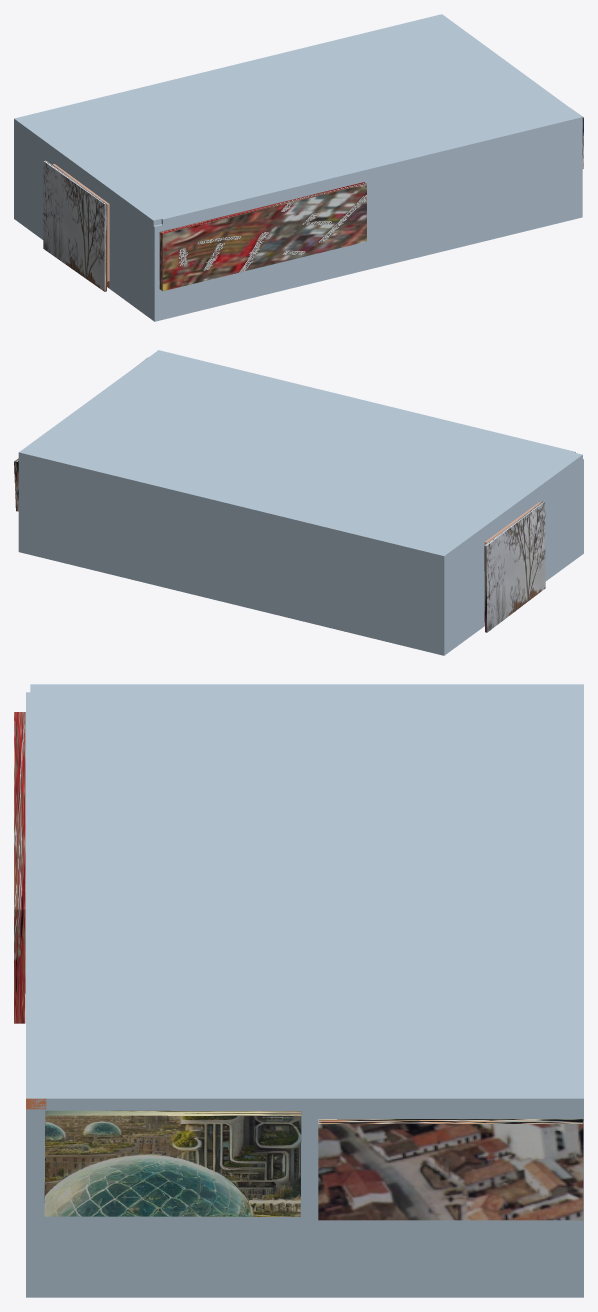
Rendered from museo.glb.
3 views of the same model, one above another, from view 1: azimuth 30°, elevation 25°; view 2: azimuth 150°, elevation 25°; view 3: azimuth 270°, elevation 25° (orthographic). The views are drawn at different scales.
Visible parts, largest first — view 1: Plane, vegetacion, Malasana; view 2: Plane, Malasana; view 3: Plane, futuro, Cube, vegetacion.
Part boxes in pixels (bbox=[...]): Plane: bbox=[14, 14, 582, 321]; vegetacion: bbox=[159, 182, 366, 291]; Malasana: bbox=[43, 160, 106, 291]; Plane: bbox=[18, 350, 583, 655]; Malasana: bbox=[484, 501, 545, 632]; Plane: bbox=[26, 684, 583, 1297]; futuro: bbox=[44, 1110, 301, 1216]; Cube: bbox=[318, 1119, 583, 1220]; vegetacion: bbox=[14, 712, 25, 1023].
Bounding box in the file's own units: 512 × 113 × 289.
12 materials, 4 textured.
